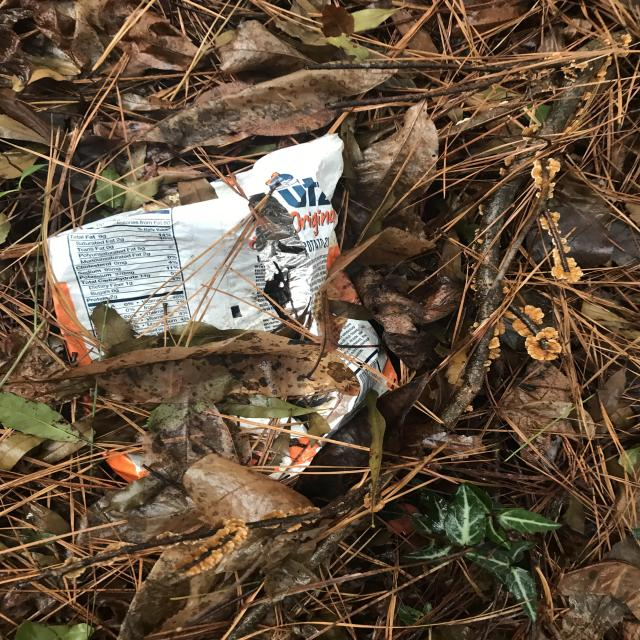litter: (41, 128, 401, 496)
